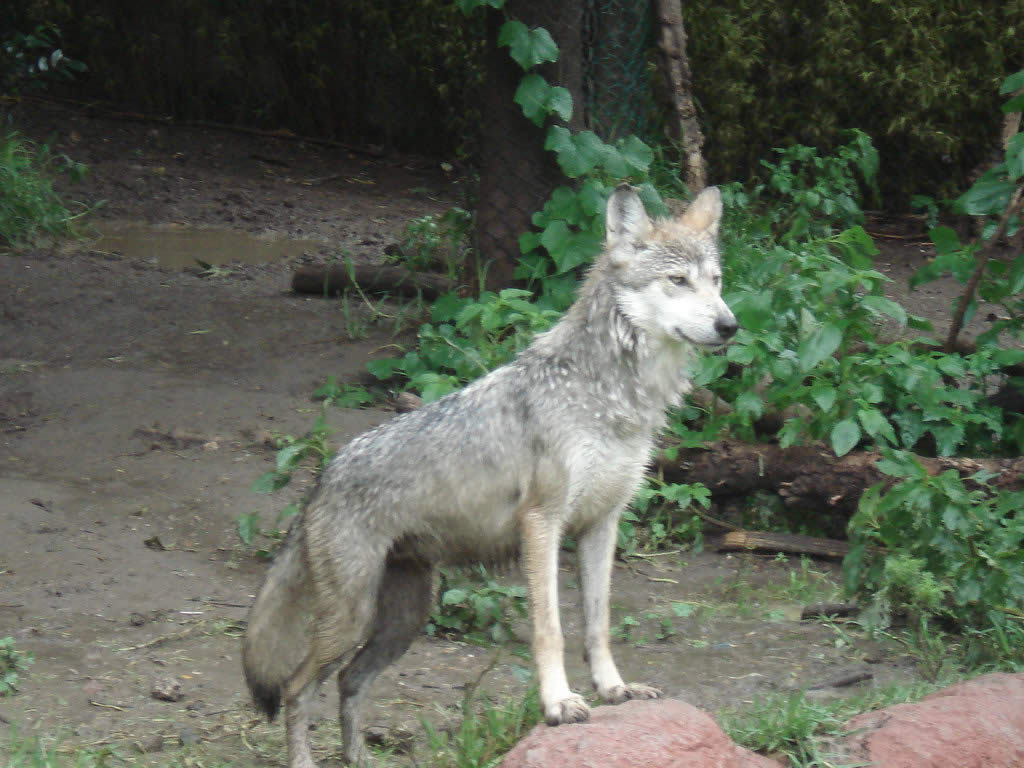Lobo: (266, 181, 739, 747)
